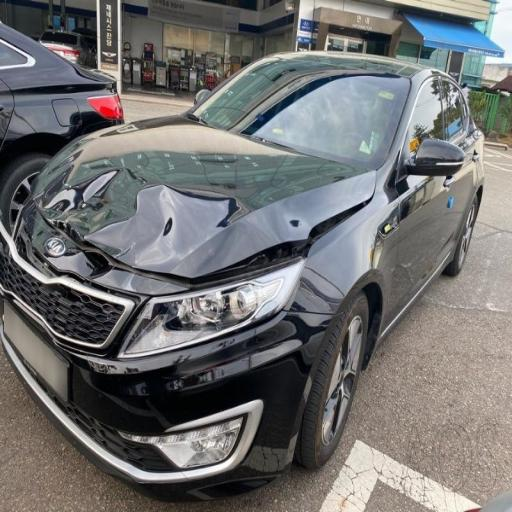dent: (42, 160, 295, 346)
